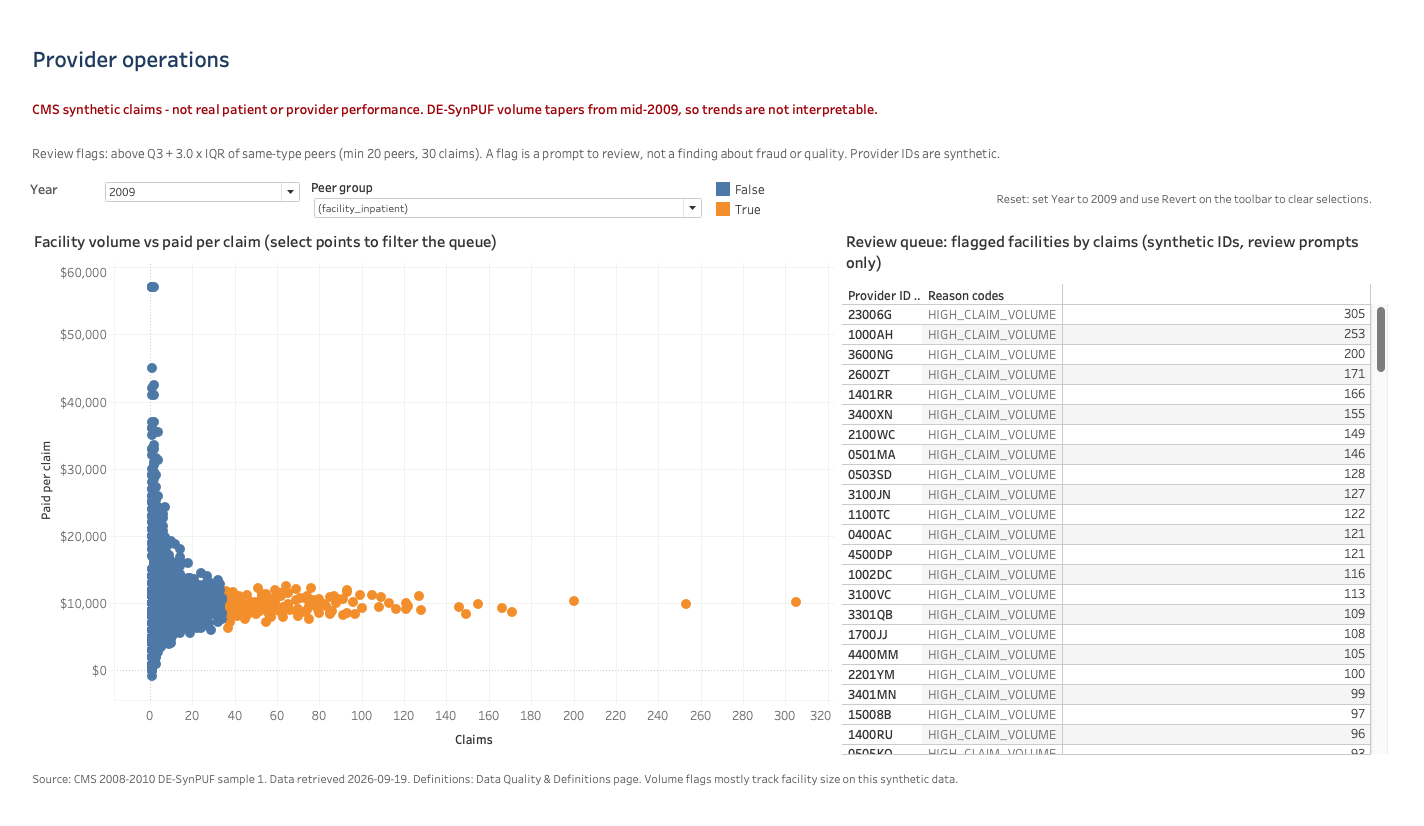

Layout of this report page (visuals, bound fields, positions):
{"tool":"tableau","page":{"name":"Provider Operations","canvas":[1366,768],"ordinal":2},"visuals":[{"type":"text","box":[0,0,1366,72]},{"type":"text","box":[0,72,1366,36]},{"type":"text","box":[0,108,1366,36]},{"type":"parameter","param":"[Parameters].[year_param]","box":[0,144,273.2,48]},{"type":"filter","title":"Provider volume vs paid per claim","param":"[federated.3b5bcd0343e1324b421099fe316c].[none:provider_type:nk]","box":[273.2,144,409.8,48]},{"type":"legend","title":"Provider volume vs paid per claim","param":"[federated.3b5bcd0343e1324b421099fe316c].[none:review_flag:nk]","box":[683,144,273.2,48]},{"type":"text","box":[956.2,144,409.8,48]},{"type":"worksheet","title":"Provider volume vs paid per claim","mark":"Circle","rows":["payment_per_claim"],"cols":["claims"],"box":[0,192,819.6,544]},{"type":"worksheet","title":"Provider action queue","mark":"Text","rows":["provider_id","reason_codes"],"box":[819.6,192,546.4,544]},{"type":"text","box":[0,736,1366,32]}]}

Visuals, with their boxes on the page's 1366x768 design canvas (x1, y1, x2, y2). These are canvas units, not pixel positions in the 1424x826 screenshot, which may show the page scaled, cropped or inside an application window:
text: detection(0, 0, 1366, 72)
text: detection(0, 72, 1366, 108)
text: detection(0, 108, 1366, 144)
parameter: detection(0, 144, 273, 192)
"Provider volume vs paid per claim" filter: detection(273, 144, 683, 192)
"Provider volume vs paid per claim" legend: detection(683, 144, 956, 192)
text: detection(956, 144, 1366, 192)
"Provider volume vs paid per claim" worksheet (Circle marks): detection(0, 192, 820, 736)
"Provider action queue" worksheet (Text marks): detection(820, 192, 1366, 736)
text: detection(0, 736, 1366, 768)
